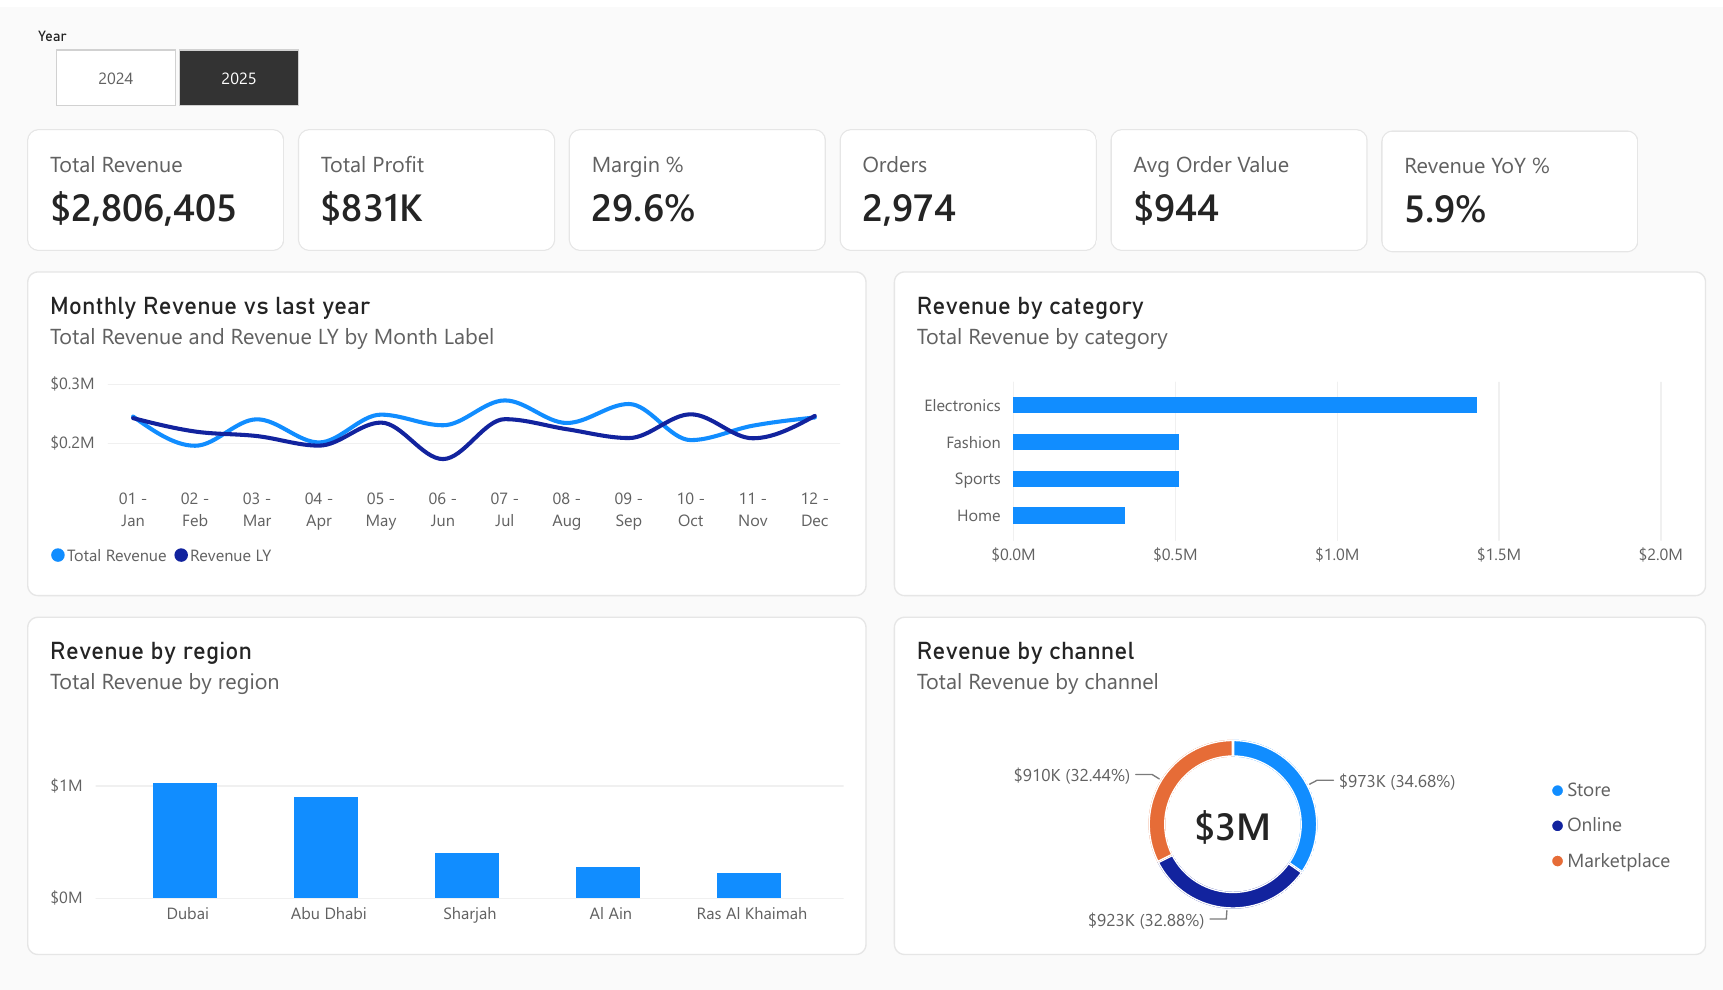

This screenshot's page, from the dashboard's own definition file:
{"tool":"powerbi","page":{"name":"Page 1","canvas":[1920,1080],"ordinal":0},"visuals":[{"type":"slicer","fields":{"Values":["Date.Year"]},"box":[20,15,220,60],"z":0},{"type":"cardVisual","fields":{"Data":["fact_sales.Revenue Card"]},"box":[20,90,190,90],"z":1000},{"type":"cardVisual","fields":{"Data":["fact_sales.Total Profit"]},"box":[220,90,190,90],"z":2000},{"type":"cardVisual","fields":{"Data":["fact_sales.Margin %"]},"box":[420,90,190,90],"z":3000},{"type":"cardVisual","fields":{"Data":["fact_sales.Avg Order Value"]},"box":[820,90,190,90],"z":4000},{"type":"cardVisual","fields":{"Data":["fact_sales.Revenue YoY %"]},"box":[1020,90.9,190,90],"z":5000},{"type":"cardVisual","fields":{"Data":["fact_sales.Orders Card"]},"box":[620,90,190,90],"z":6000},{"type":"lineChart","title":"Monthly Revenue vs last year","fields":{"Category":["Date.Month Label"],"Y":["fact_sales.Total Revenue","fact_sales.Revenue LY"]},"box":[20,195,620,240],"z":7000},{"type":"clusteredBarChart","title":"Revenue by category","fields":{"Category":["dim_products.category"],"Y":["fact_sales.Total Revenue"]},"box":[660,195,600,240],"z":8000},{"type":"clusteredColumnChart","title":"Revenue by region","fields":{"Category":["fact_sales.region"],"Y":["fact_sales.Total Revenue"]},"box":[20,450,620,250],"z":9000},{"type":"donutChart","title":"Revenue by channel","fields":{"Category":["fact_sales.channel"],"Y":["fact_sales.Total Revenue"]},"box":[660,450,600,250],"z":10000}]}

Visuals, with their boxes in screenshot pixels (x1, y1, x2, y2), scaled from the page's 1920x1080 canvas onto the 1723x990 screenshot:
slicer - Date.Year: select_region(18, 14, 215, 69)
cardVisual - fact_sales.Revenue Card: select_region(18, 82, 188, 165)
cardVisual - fact_sales.Total Profit: select_region(197, 82, 368, 165)
cardVisual - fact_sales.Margin %: select_region(377, 82, 547, 165)
cardVisual - fact_sales.Avg Order Value: select_region(736, 82, 906, 165)
cardVisual - fact_sales.Revenue YoY %: select_region(915, 83, 1086, 166)
cardVisual - fact_sales.Orders Card: select_region(556, 82, 727, 165)
"Monthly Revenue vs last year" lineChart: select_region(18, 179, 574, 399)
"Revenue by category" clusteredBarChart: select_region(592, 179, 1131, 399)
"Revenue by region" clusteredColumnChart: select_region(18, 412, 574, 642)
"Revenue by channel" donutChart: select_region(592, 412, 1131, 642)
